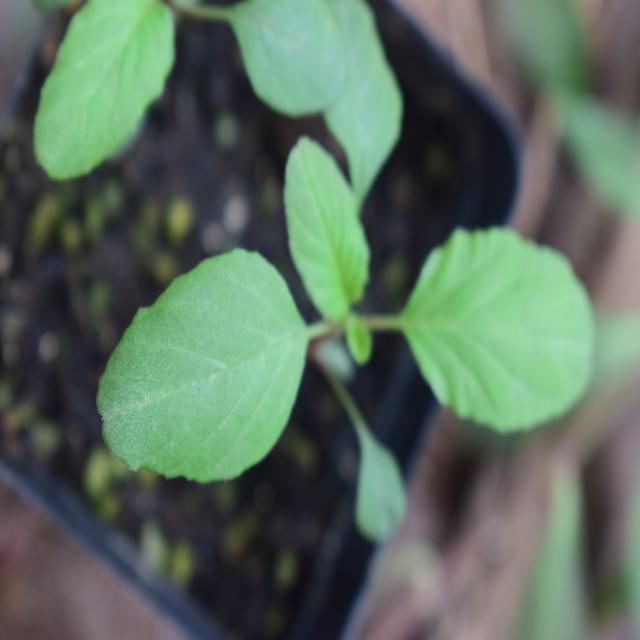pigweed: (96, 137, 583, 530)
